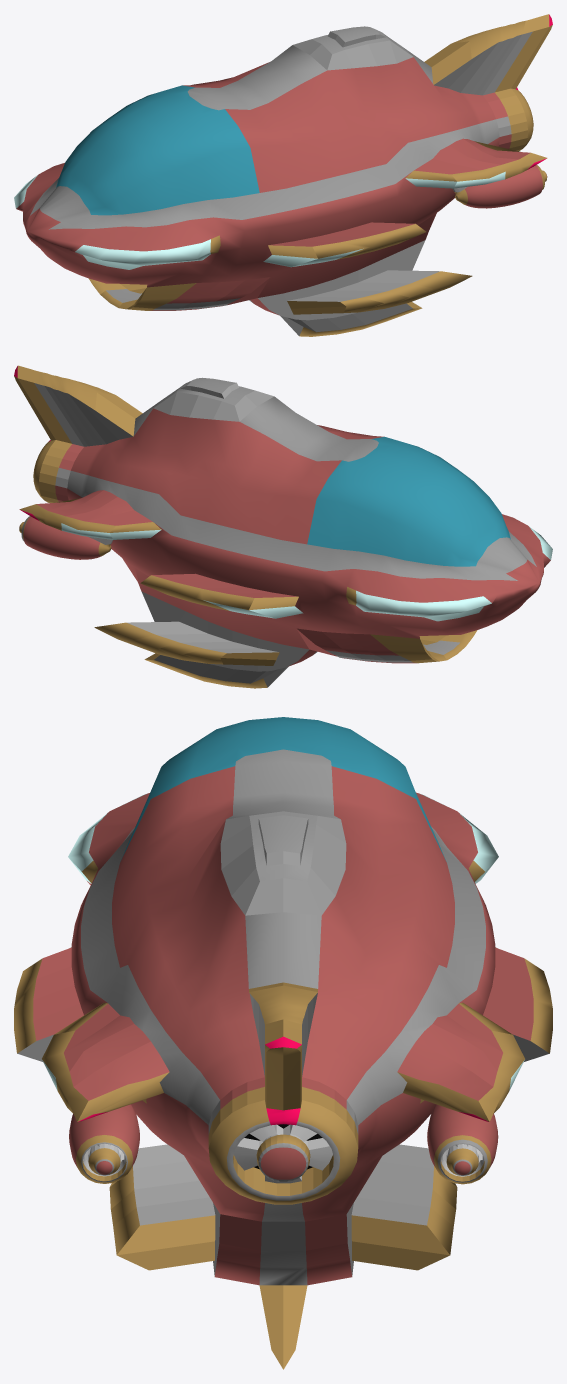
File: Submarino HN520 Titanya.fbx
3 renders of one model, top to bottom at view 1: azimuth 30°, elevation 25°; view 2: azimuth 150°, elevation 25°; view 3: azimuth 270°, elevation 25°, orthographic. The views are drawn at different scales.
Parts seen in each view (by area): view 1: HN520_Titanya, Titanya_Motores_de_Leme; view 2: HN520_Titanya, Titanya_Motores_de_Leme1; view 3: HN520_Titanya, Titanya_Motores_de_Leme1, Titanya_Motores_de_Leme.
Boxes of the visible parts, x1=… form: HN520_Titanya: x1=14, y1=14, x2=552, y2=336; Titanya_Motores_de_Leme: x1=453, y1=165, x2=547, y2=208; HN520_Titanya: x1=14, y1=365, x2=552, y2=688; Titanya_Motores_de_Leme1: x1=19, y1=516, x2=112, y2=559; HN520_Titanya: x1=14, y1=717, x2=552, y2=1369; Titanya_Motores_de_Leme1: x1=427, y1=1104, x2=498, y2=1184; Titanya_Motores_de_Leme: x1=69, y1=1104, x2=139, y2=1183.
Size of the model in its own units: 3392 by 1861 by 1827.
